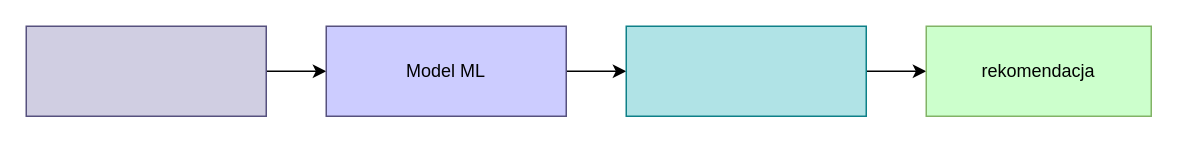
This 1178x143 diagram has some shape labels left out. The centre of each missing label's shape, as x and y in pixels:
diagnoza: pixel 745 70
Objawy: pixel 145 70
